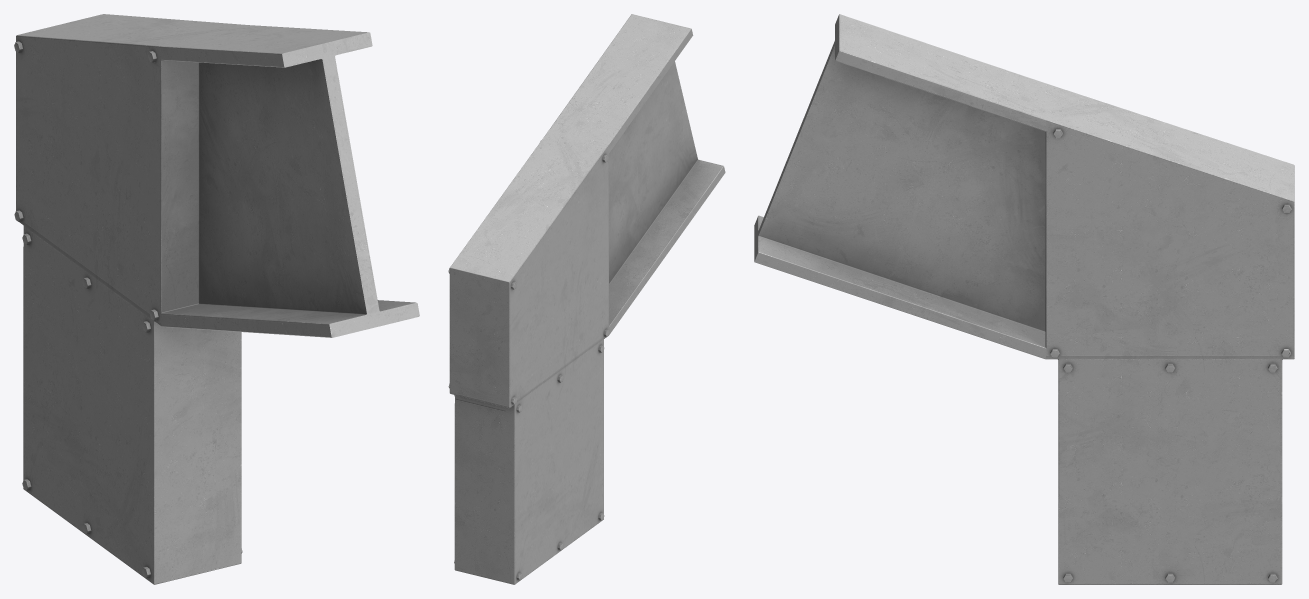
Rendered from StructuralBeam_Corner.FBX.
The picture shows the model from 3 angles, left to right: view 1: azimuth 30°, elevation 25°; view 2: azimuth 150°, elevation 25°; view 3: azimuth 270°, elevation 25°; orthographic projection. The views are drawn at different scales.
Visible parts, largest first — view 1: StructuralBeam_Corner; view 2: StructuralBeam_Corner; view 3: StructuralBeam_Corner.
Boxes of the visible parts, <box> form: StructuralBeam_Corner: <box>14,14,419,584</box>; StructuralBeam_Corner: <box>448,14,725,584</box>; StructuralBeam_Corner: <box>754,14,1294,584</box>.
Size of the model in its own units: 37.79 by 237 by 217.
